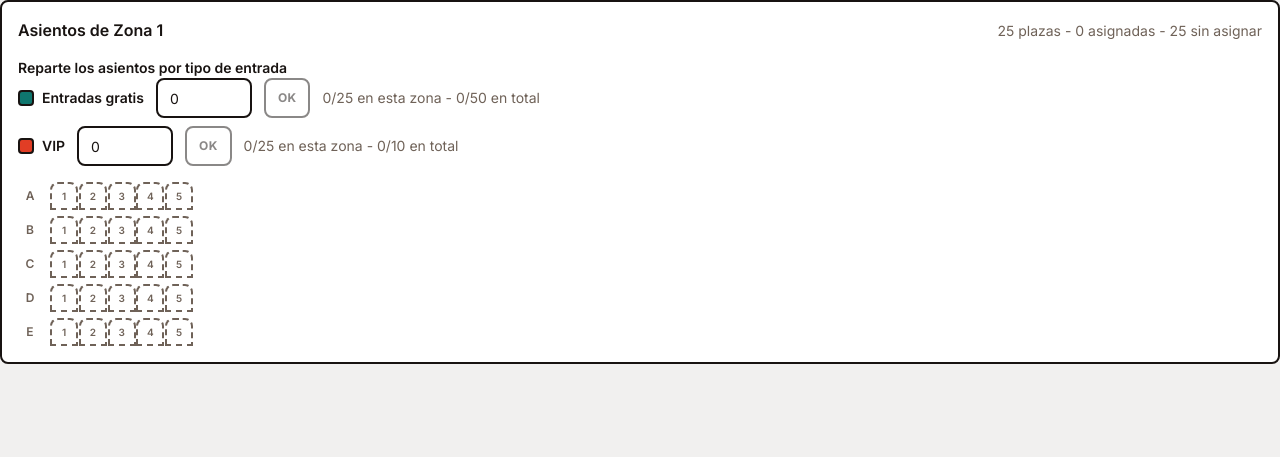
ZoneSeatEditor › selecting seats › selects a whole row from its label
The image size is (1280, 457).
Click the button named "Seleccionar la fila C". click: (30, 264)
box: [18,256,42,272]
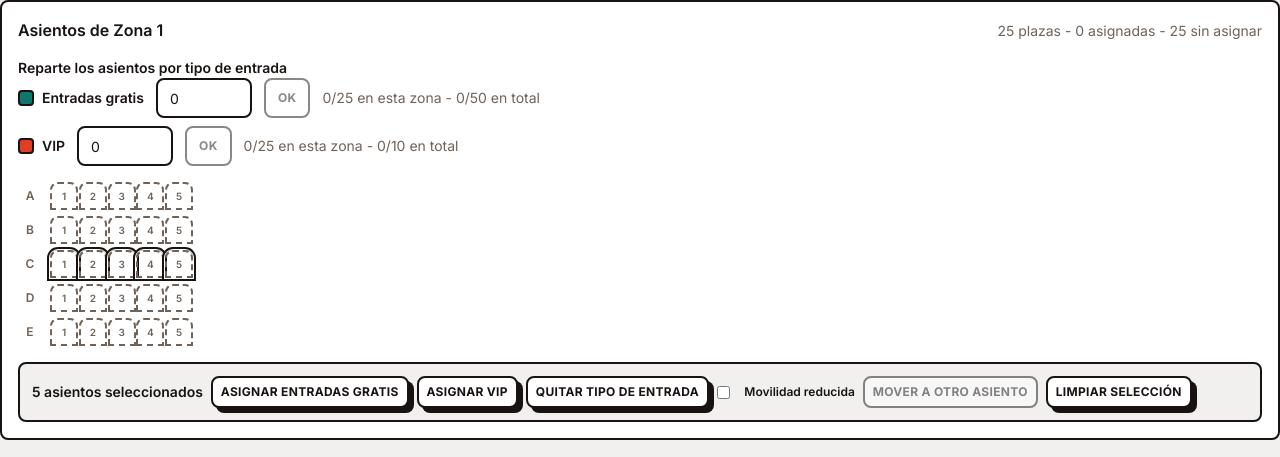
Expected: the text "5 asientos seleccionados" is shown, [32,382,203,402]
